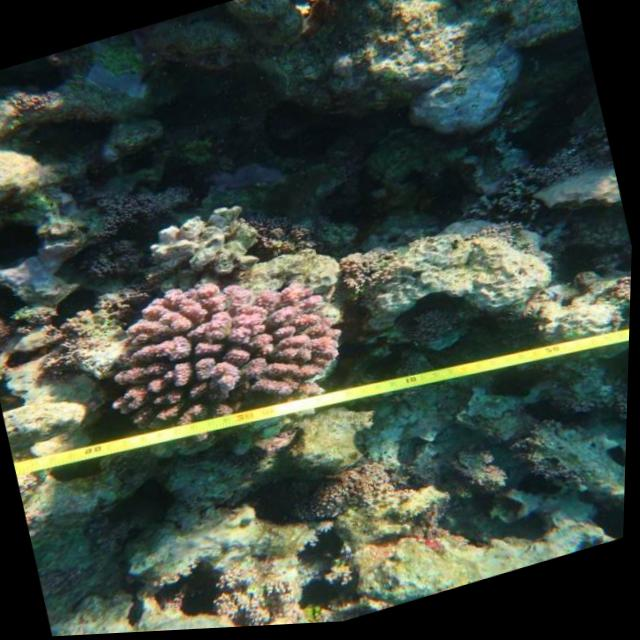Healthy Coral: (88, 239, 353, 457)
